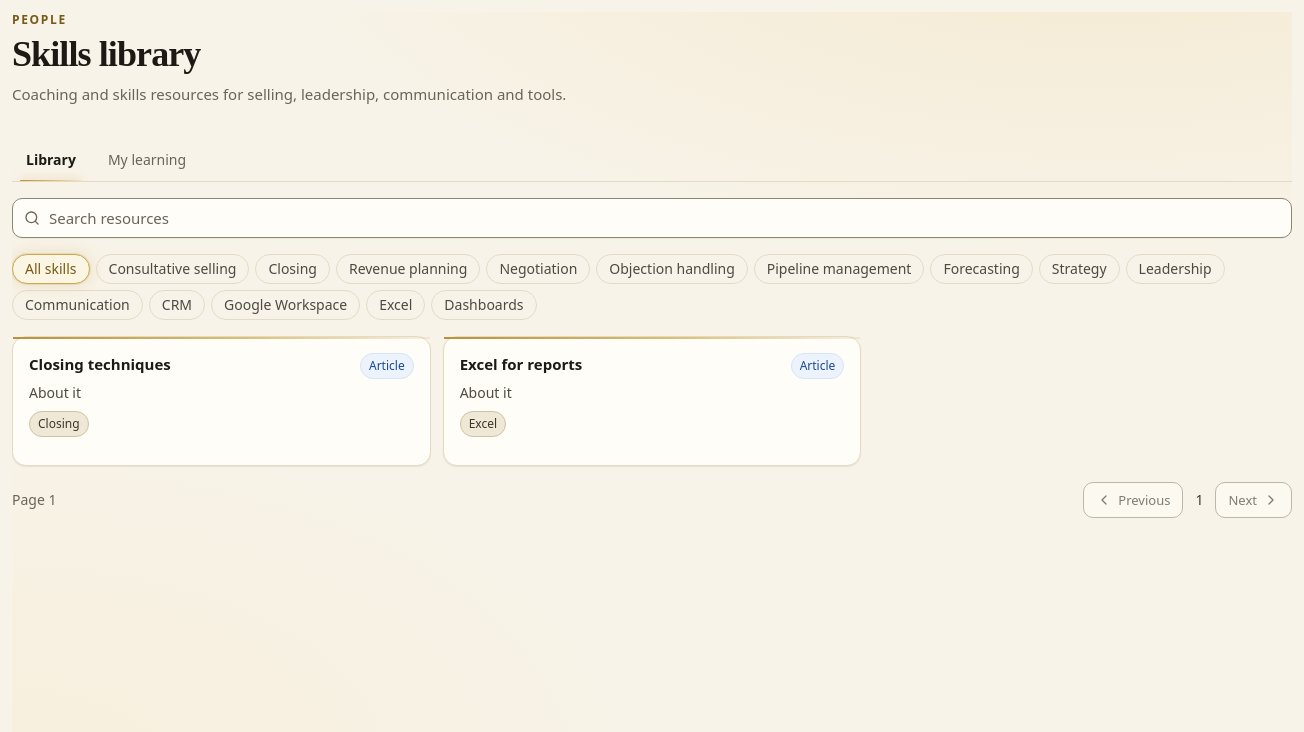
Scenario: skills library › lists resources, filters by skill tag and has no axe violations
Expected: the heading "Closing techniques" is shown, x1=29 y1=353 x2=171 y2=377
Expected: the heading "Excel for reports" is shown, x1=460 y1=353 x2=582 y2=377
Click the button "Excel" at (396, 305), box x1=366 y1=290 x2=425 y2=320
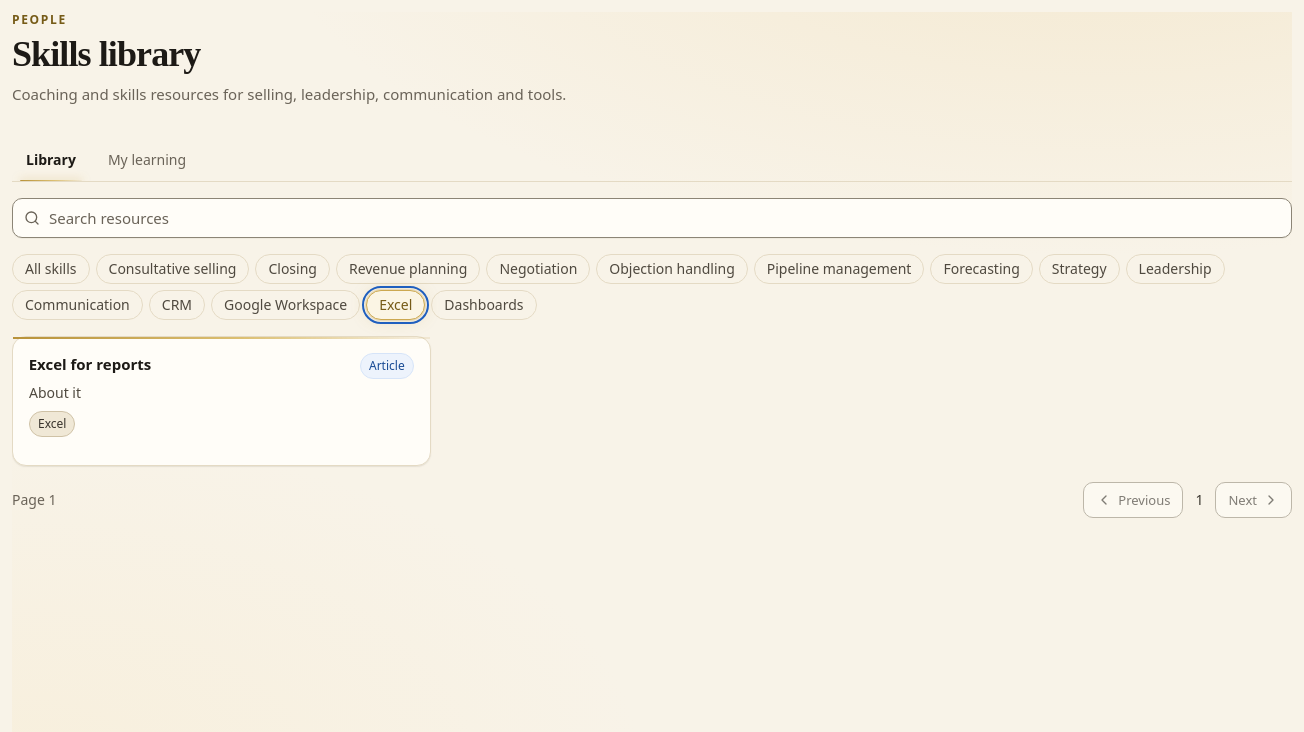
Result: the heading "Closing techniques" is gone
